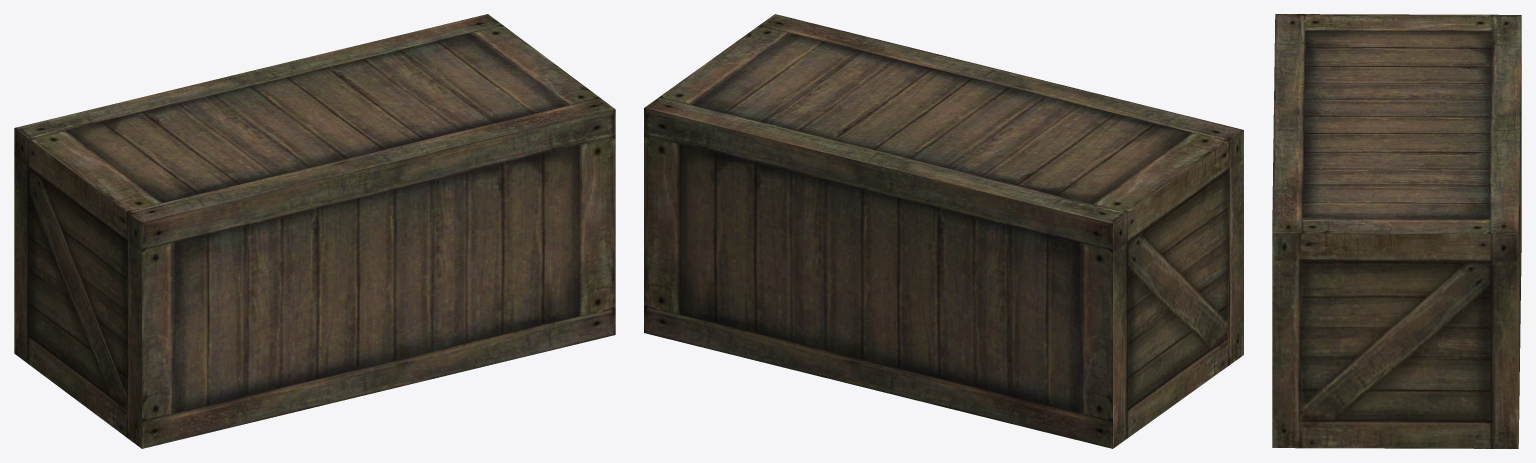
The model's file is thing_cagobox_long00.fbx.
3 renders of one model, left to right at view 1: azimuth 30°, elevation 25°; view 2: azimuth 150°, elevation 25°; view 3: azimuth 270°, elevation 25°, orthographic. The views are drawn at different scales.
Parts seen in each view (by area): view 1: thing_cagobox_long00; view 2: thing_cagobox_long00; view 3: thing_cagobox_long00.
Part boxes in pixels (left/top/right/bottom): thing_cagobox_long00: left=14, top=14, right=615, bottom=448; thing_cagobox_long00: left=644, top=14, right=1243, bottom=448; thing_cagobox_long00: left=1272, top=14, right=1521, bottom=448.
Bounding box in the file's own units: 2.76 × 1.25 × 1.32.
